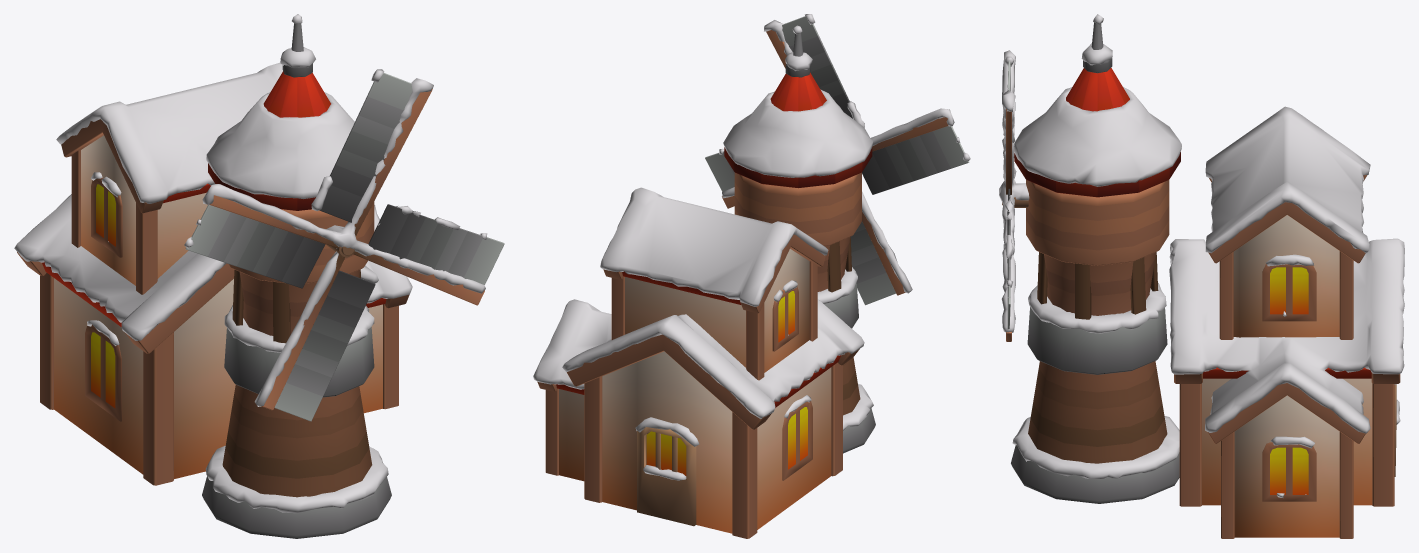
File: WindmilllHouseSnowy_1.fbx
3 renders of one model, left to right at view 1: azimuth 30°, elevation 25°; view 2: azimuth 150°, elevation 25°; view 3: azimuth 270°, elevation 25°, orthographic. The views are drawn at different scales.
Visible parts, largest first — view 1: WindmilllHouseSnowy_1; view 2: WindmilllHouseSnowy_1; view 3: WindmilllHouseSnowy_1.
Boxes of the visible parts, box(x1,y1,x2,y2) form: WindmilllHouseSnowy_1: box(14, 14, 504, 538); WindmilllHouseSnowy_1: box(533, 14, 970, 538); WindmilllHouseSnowy_1: box(999, 14, 1404, 538).
Bounding box in the file's own units: 448 × 615 × 501.
